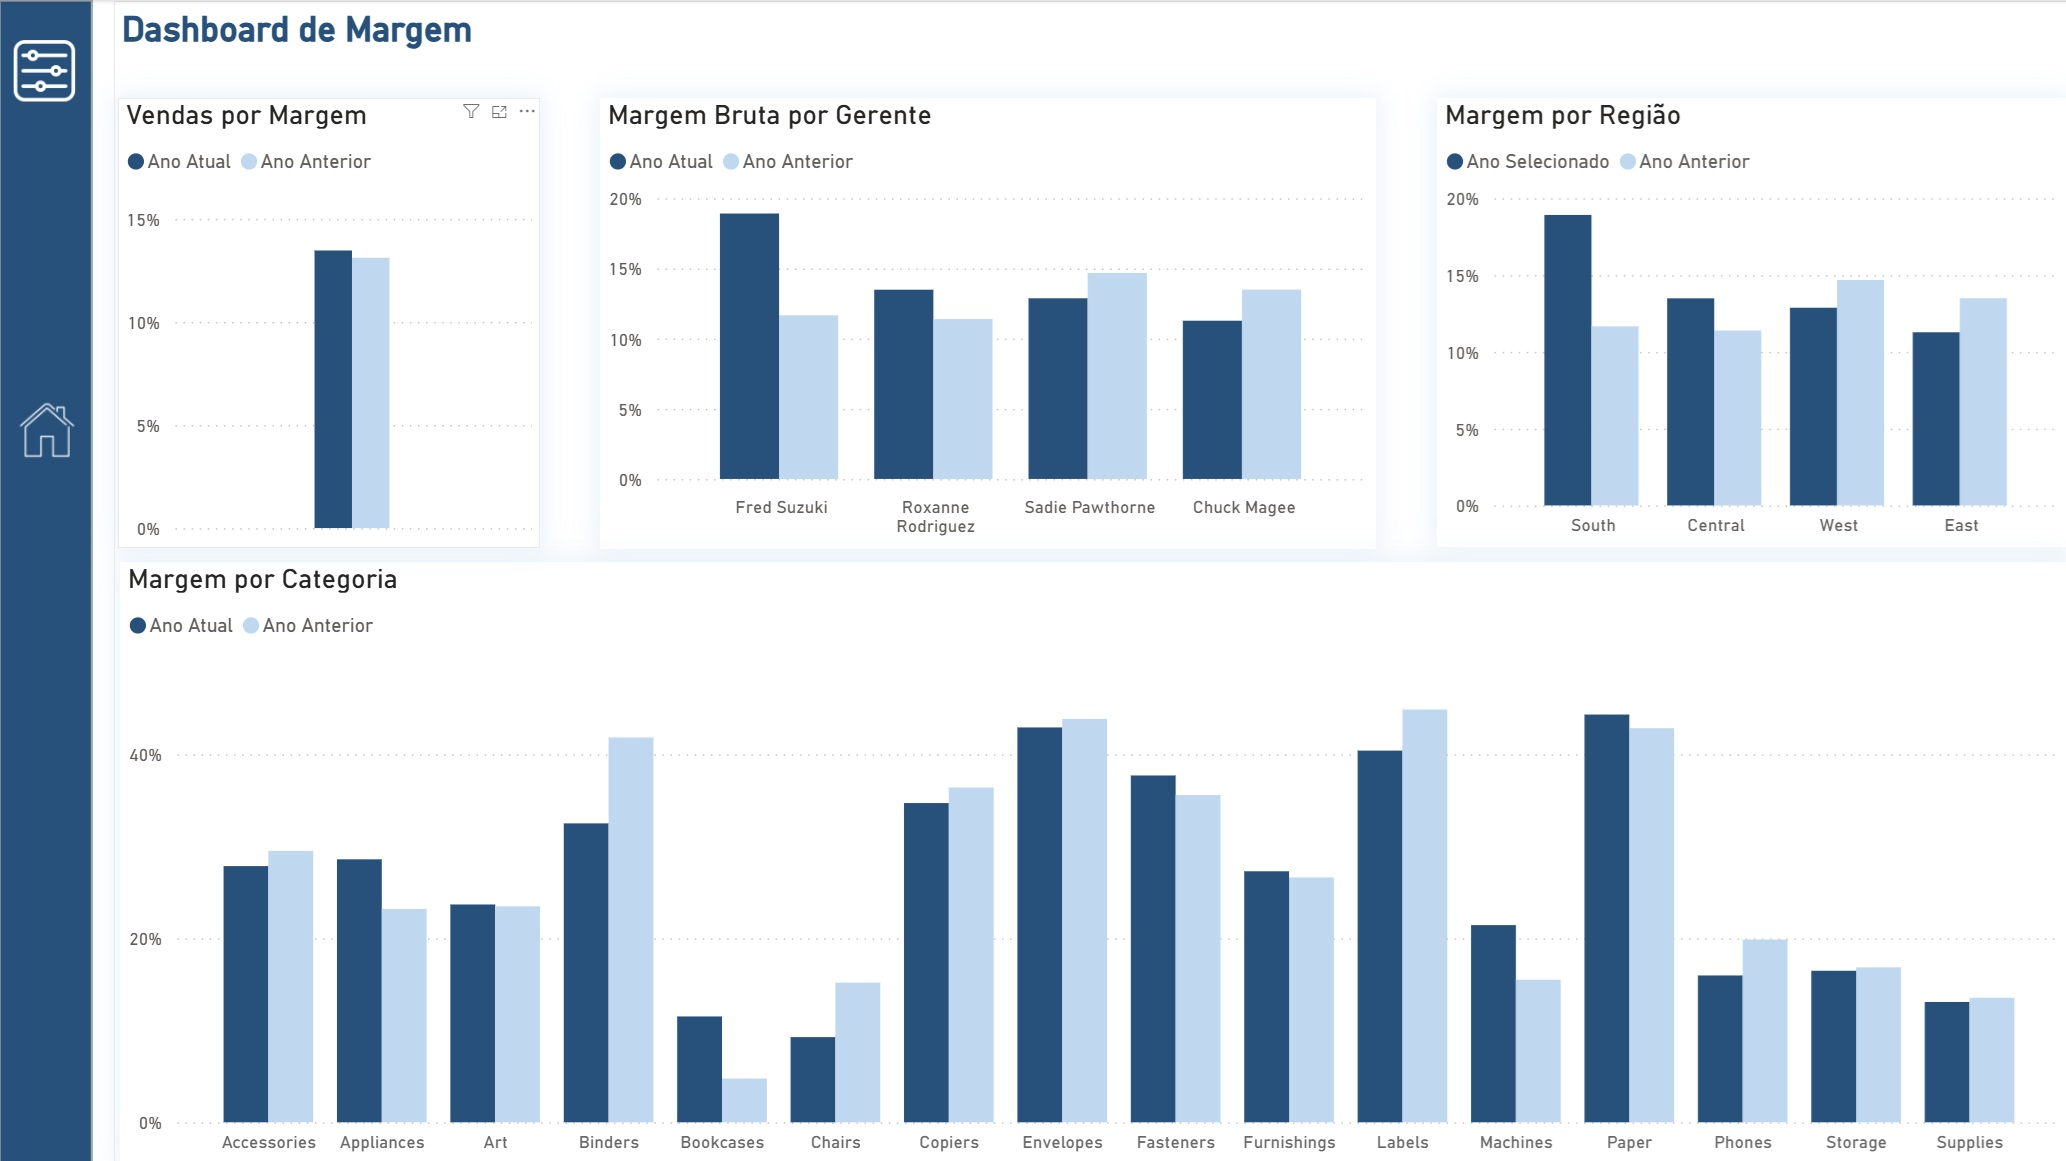

This screenshot's page, from the dashboard's own definition file:
{"tool":"powerbi","page":{"name":"Margem","canvas":[1280,720],"ordinal":1},"visuals":[{"type":"shape","box":[0,0,57.8,720.4],"z":0,"group":"g2"},{"type":"group","id":"g1","title":"Graficos","box":[71.1,0.6,1208.9,719.6],"z":0},{"type":"textbox","box":[71.1,0.6,447.8,40],"z":0,"group":"g1"},{"type":"clusteredColumnChart","title":"Margem Bruta por Gerente","fields":{"Category":["dim_gerentes.Regional Manager"],"Y":["Medidas.18 Margem Bruta","Medidas.19 Margem Bruta ano anterior"]},"box":[371.9,60.4,480,279],"z":1000,"group":"g1"},{"type":"image","box":[3.3,676.7,50,43.3],"z":2000,"group":"g2"},{"type":"group","id":"g2","title":"Fechado","box":[0,0,57.8,720.4],"z":3000},{"type":"image","box":[3.3,20,50,47.8],"z":3000,"group":"g2"},{"type":"clusteredColumnChart","title":"Margem por Região","fields":{"Category":["dim_gerentes.Region"],"Y":["Medidas.18 Margem Bruta","Medidas.19 Margem Bruta ano anterior"]},"box":[889.4,60.7,390.3,278.4],"z":3000,"group":"g1"},{"type":"image","box":[0,237.8,57.8,57.8],"z":3500,"group":"g2"},{"type":"clusteredColumnChart","title":"Margem por Categoria","fields":{"Category":["dim_produto.Sub_Categoria","dim_produto.Nome_Produto"],"Y":["Medidas.18 Margem Bruta","Medidas.19 Margem Bruta ano anterior"]},"box":[74.6,347.3,1205.4,372.9],"z":4000,"group":"g1"},{"type":"clusteredColumnChart","title":"Vendas por Margem","fields":{"Y":["Medidas.18 Margem Bruta","Medidas.19 Margem Bruta ano anterior"]},"box":[73.5,60.7,261,278.4],"z":4500,"group":"g1"}]}

Visuals, with their boxes on the page's 1280x720 design canvas (x1, y1, x2, y2). These are canvas units, not pixel positions in the 2066x1161 screenshot, which may show the page scaled, cropped or inside an application window:
shape: (x1=0, y1=0, x2=58, y2=720)
"Graficos" group: (x1=71, y1=1, x2=1280, y2=720)
textbox: (x1=71, y1=1, x2=519, y2=41)
"Margem Bruta por Gerente" clusteredColumnChart: (x1=372, y1=60, x2=852, y2=339)
image: (x1=3, y1=677, x2=53, y2=720)
"Fechado" group: (x1=0, y1=0, x2=58, y2=720)
image: (x1=3, y1=20, x2=53, y2=68)
"Margem por Região" clusteredColumnChart: (x1=889, y1=61, x2=1280, y2=339)
image: (x1=0, y1=238, x2=58, y2=296)
"Margem por Categoria" clusteredColumnChart: (x1=75, y1=347, x2=1280, y2=720)
"Vendas por Margem" clusteredColumnChart: (x1=74, y1=61, x2=334, y2=339)
